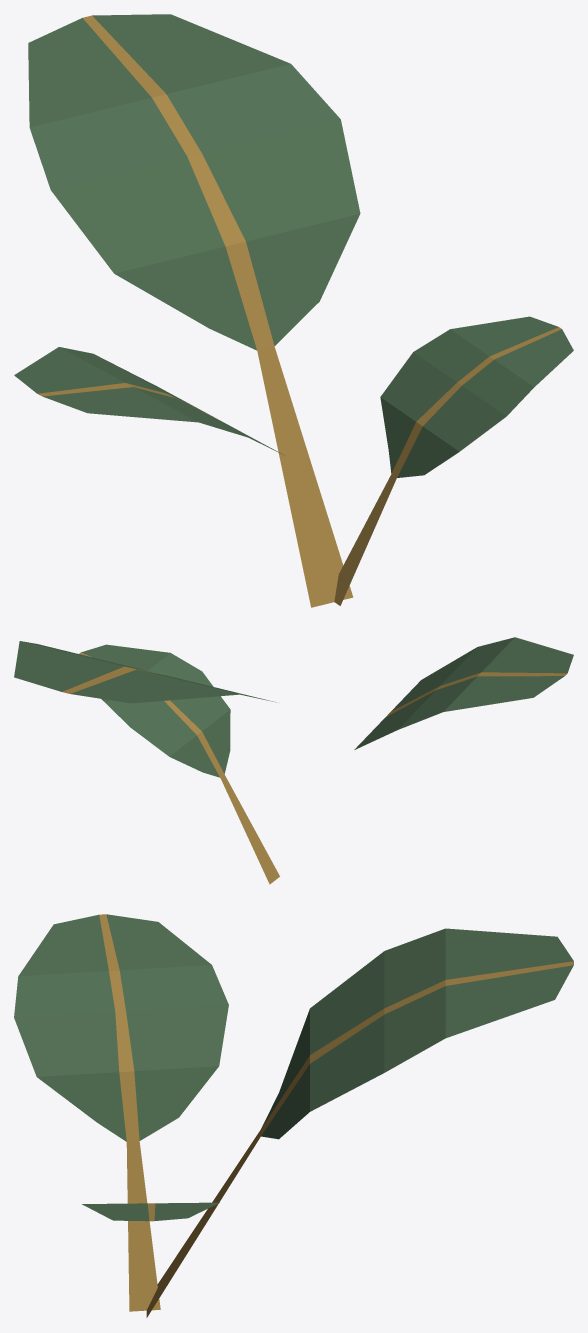
The model's file is JunglePlant_05.glb.
3 renders of one model, top to bottom at view 1: azimuth 30°, elevation 25°; view 2: azimuth 150°, elevation 25°; view 3: azimuth 270°, elevation 25°, orthographic. The views are drawn at different scales.
Visible parts, largest first — view 1: JunglePlant_05; view 2: JunglePlant_05; view 3: JunglePlant_05.
Part boxes in pixels (x1,y1,x2,y2): JunglePlant_05: [14, 14, 573, 607]; JunglePlant_05: [14, 637, 573, 884]; JunglePlant_05: [14, 914, 573, 1317].
Size of the model in its own units: 0.3638 by 0.2552 by 0.3723.
Materials: 1 (1 with a texture image).
